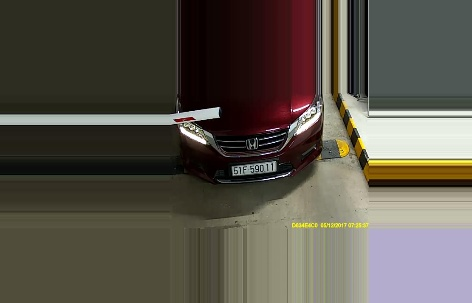plate: (230, 159, 278, 178)
